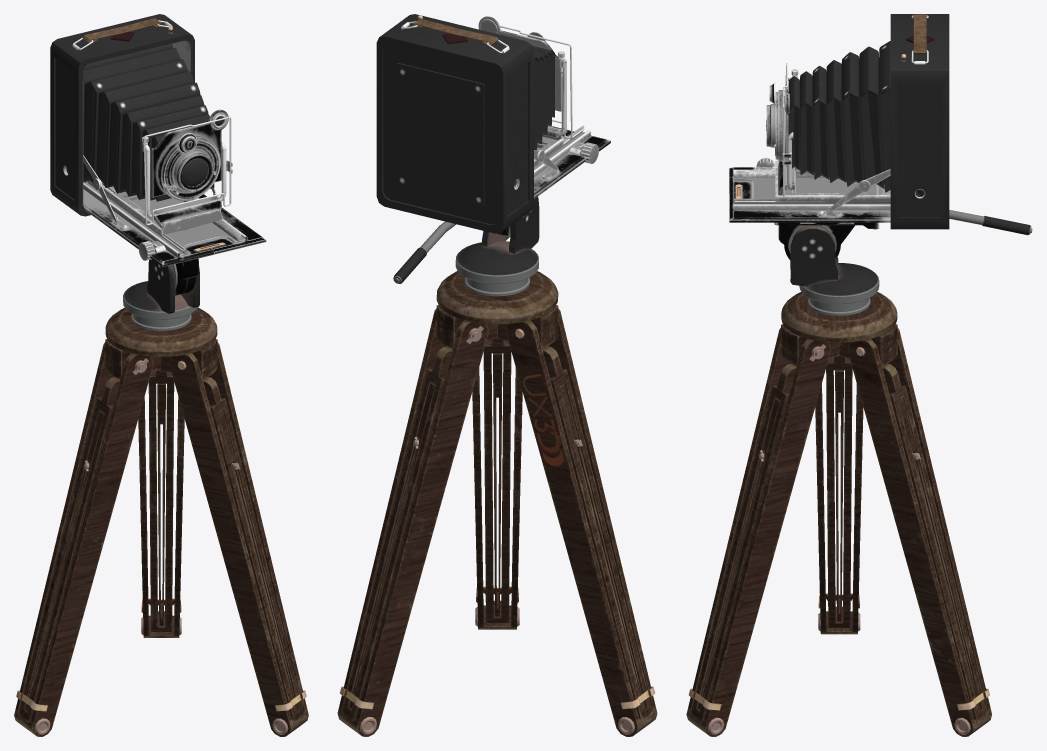
File: AntiqueCamera.glb
The picture shows the model from 3 angles, left to right: view 1: azimuth 30°, elevation 25°; view 2: azimuth 150°, elevation 25°; view 3: azimuth 270°, elevation 25°; orthographic projection. The views are drawn at different scales.
Visible parts, largest first — view 1: tripod, camera; view 2: tripod, camera; view 3: tripod, camera.
Part boxes in pixels (x1=…): tripod: x1=14, y1=258, x2=308, y2=736; camera: x1=50, y1=14, x2=266, y2=266; tripod: x1=337, y1=196, x2=657, y2=736; camera: x1=376, y1=14, x2=610, y2=233; tripod: x1=686, y1=210, x2=1032, y2=736; camera: x1=729, y1=14, x2=949, y2=229.
Bounding box in the file's own units: 2.6 × 7.21 × 3.39.
Materials: 2 (2 with a texture image).
